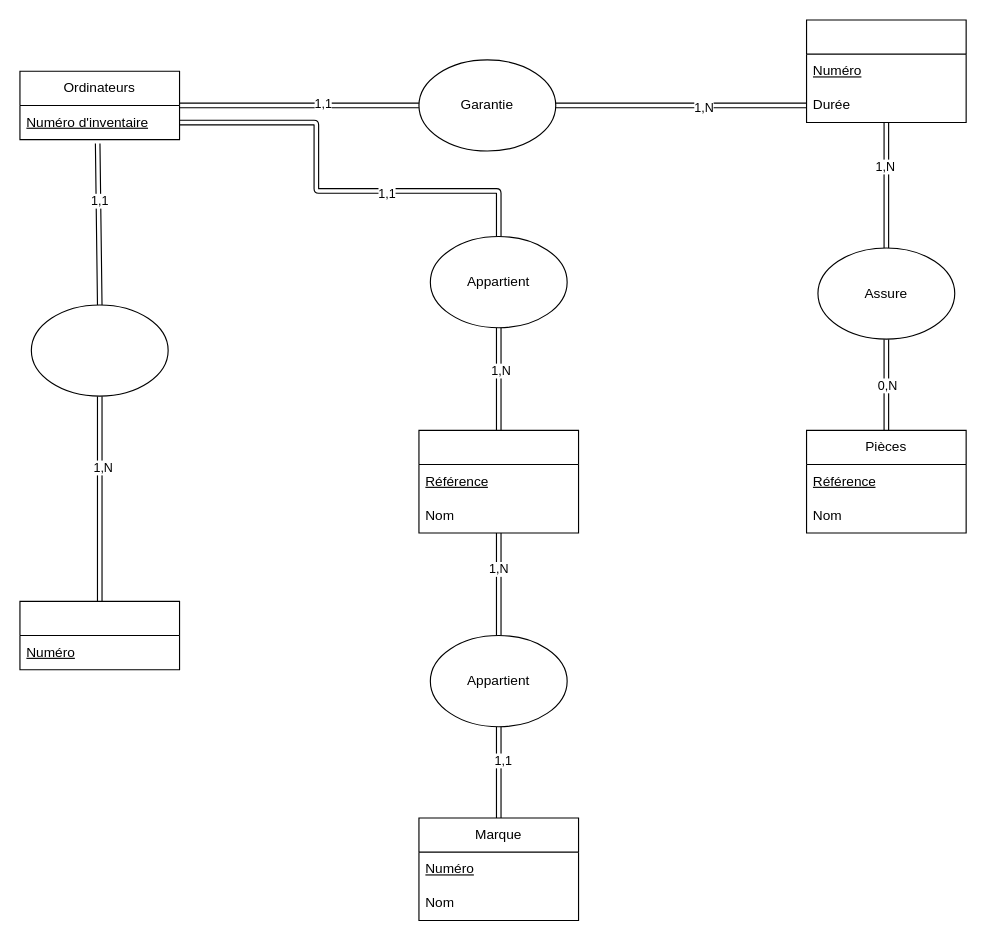
The diagram is 986 pixels wide and 941 high, and some of its shapes have lost their labels. The shapes that lost their labels are listed below. From the top down, each one's box as (x1, y1, x2, y2) in pixels, then its label:
(805, 19, 966, 123): Contrat de garantie
(30, 304, 168, 396): Fourni Date d'achat
(418, 429, 579, 533): Modèle
(19, 600, 180, 670): Fournisseurs
